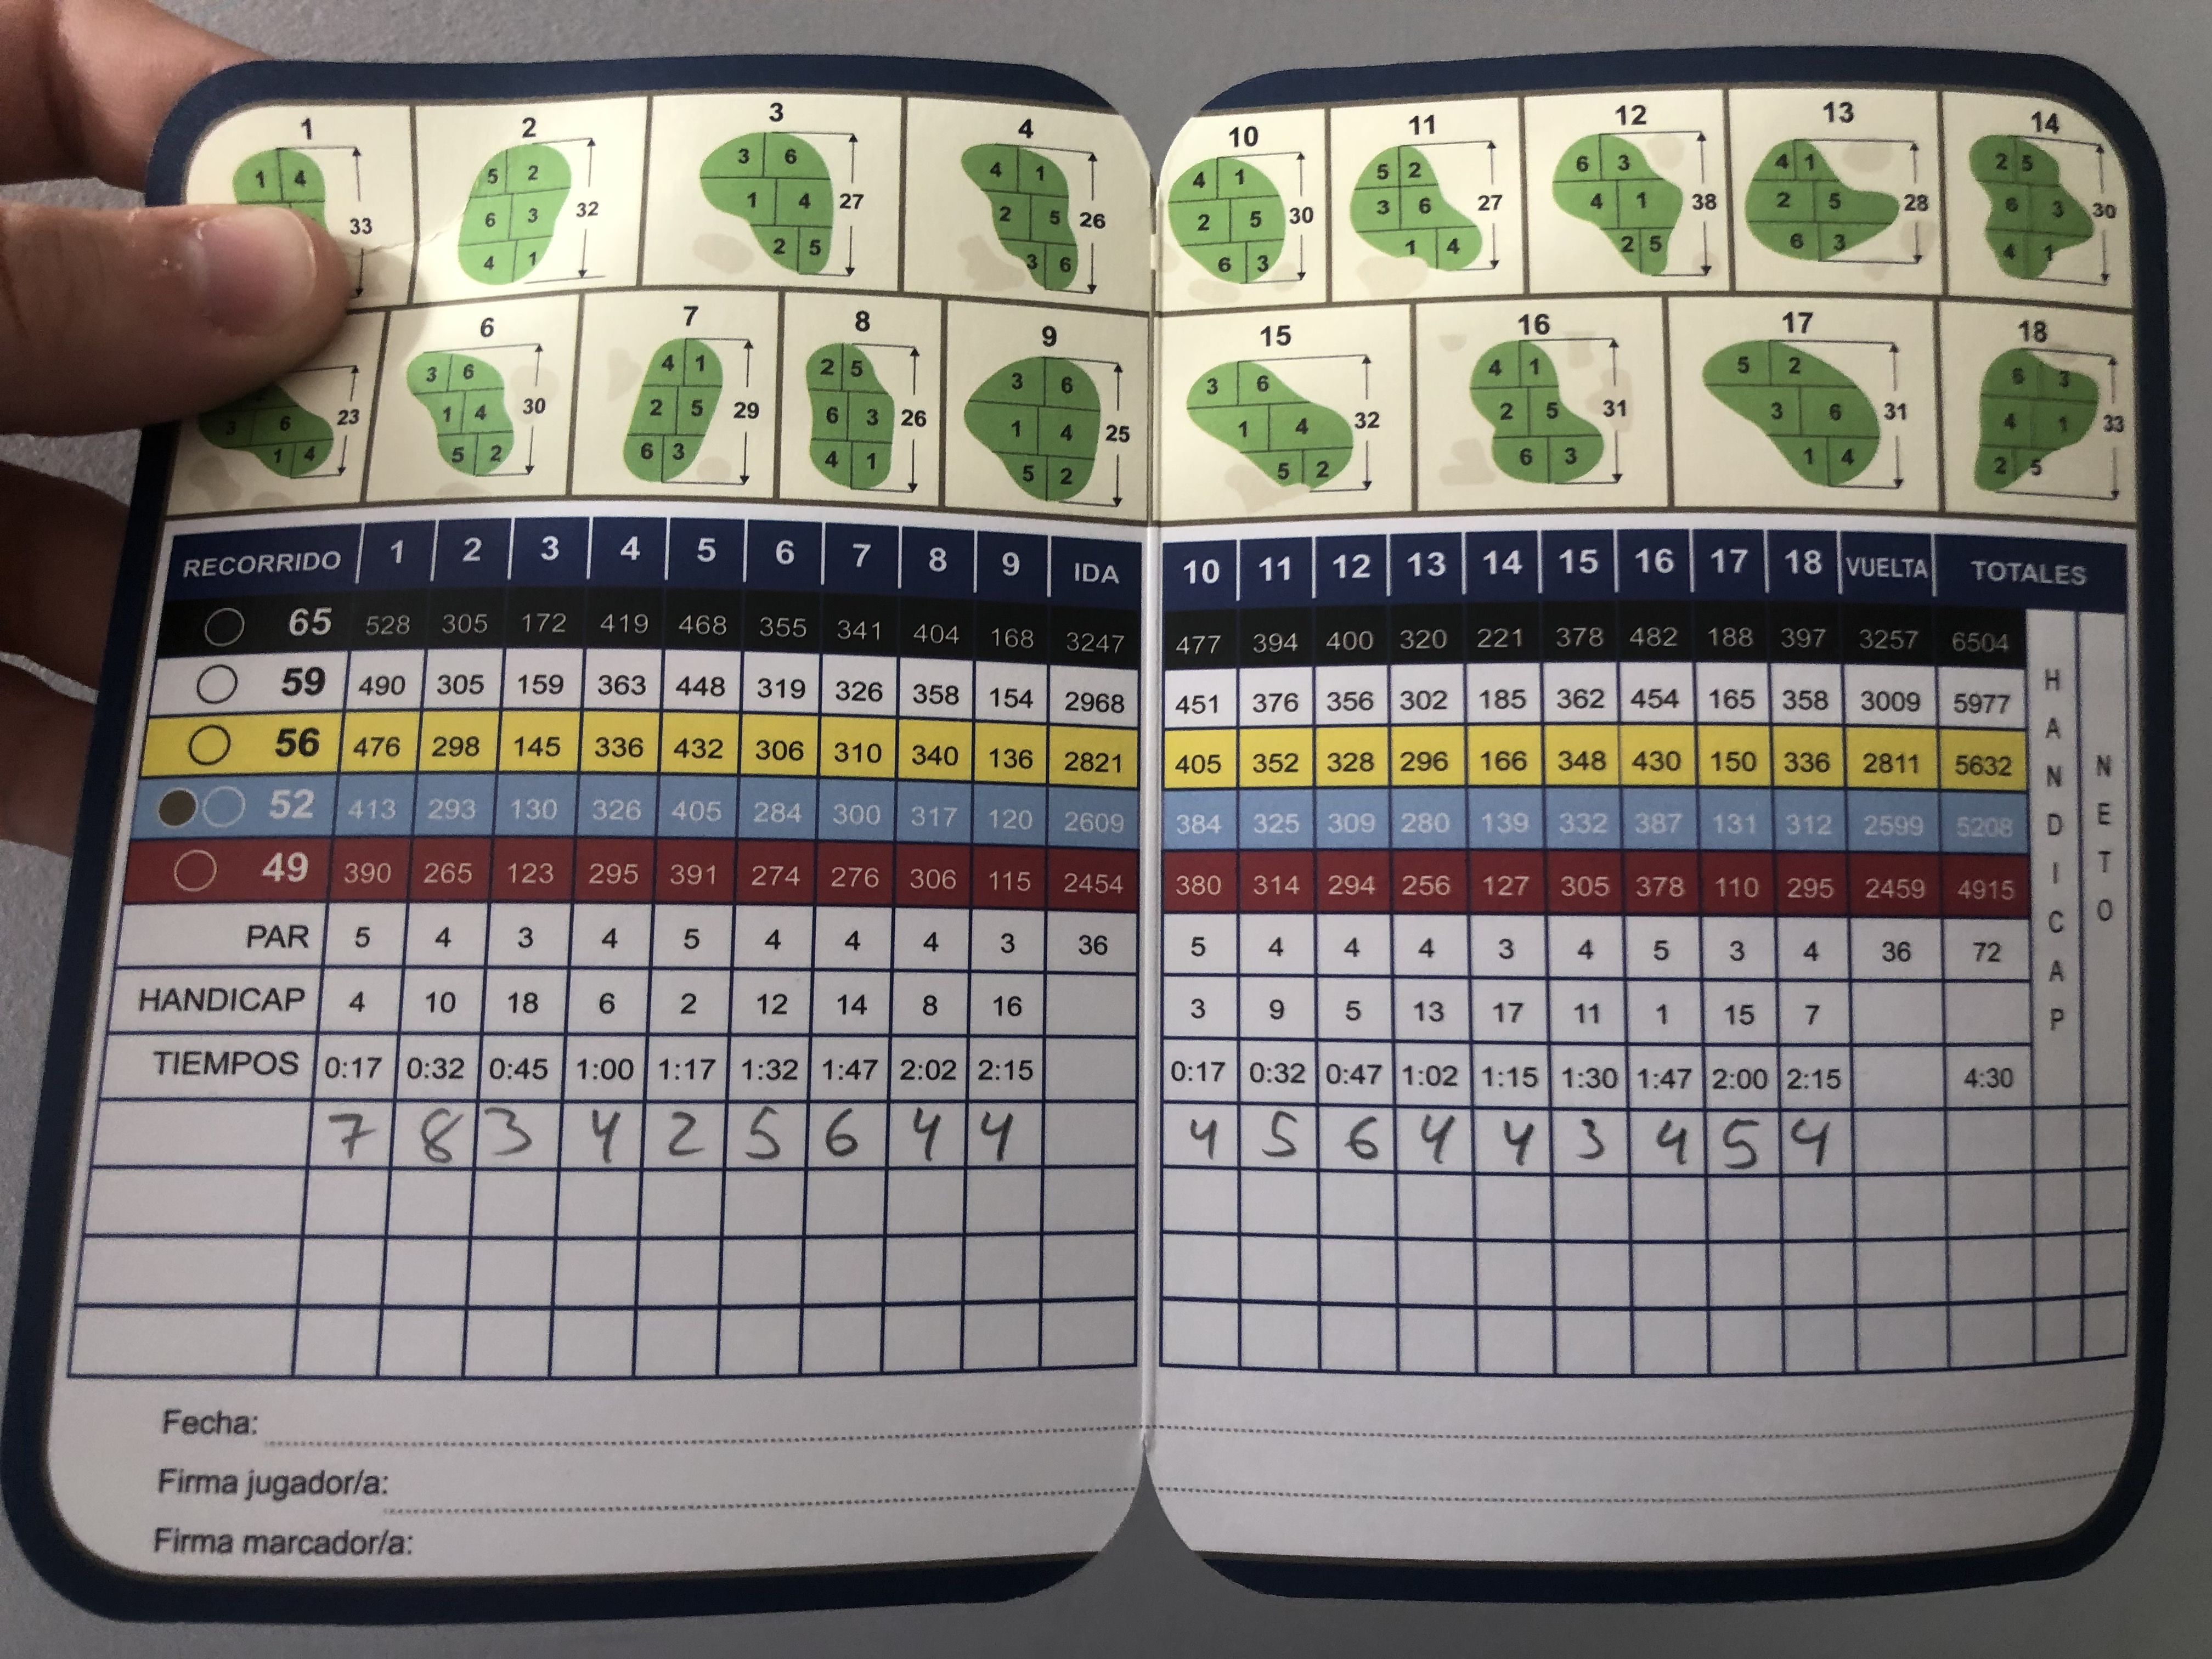par: (228, 906, 2026, 983)
score: (320, 1105, 1839, 1173)
